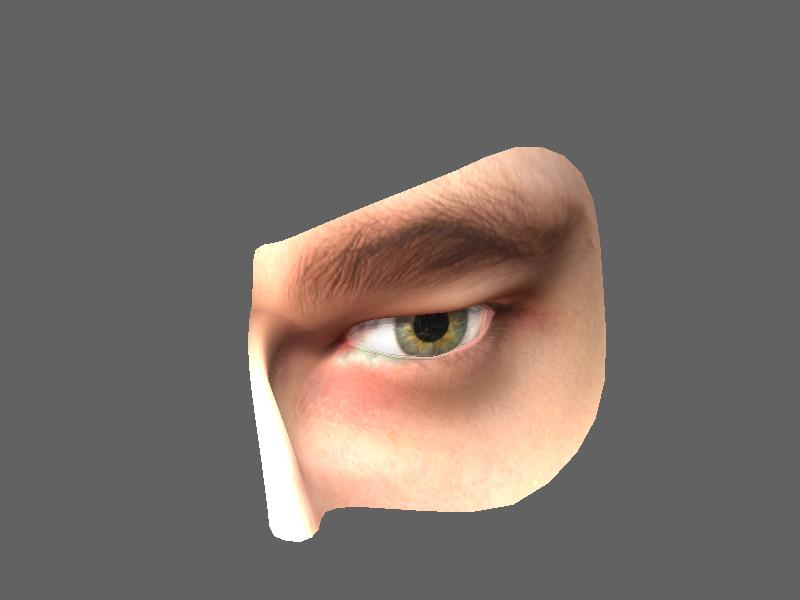iris: (393, 311, 477, 360)
